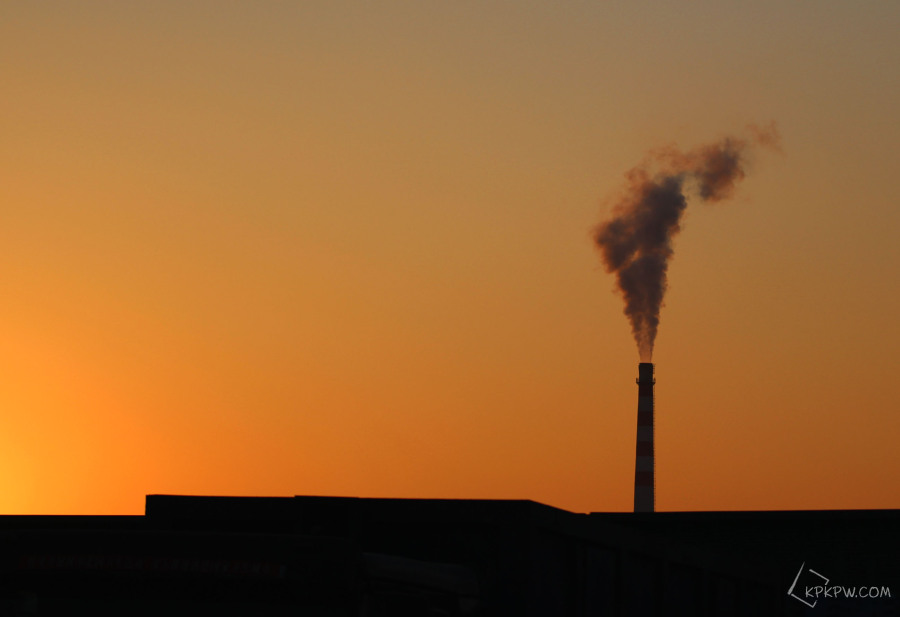dust: (593, 127, 739, 368)
